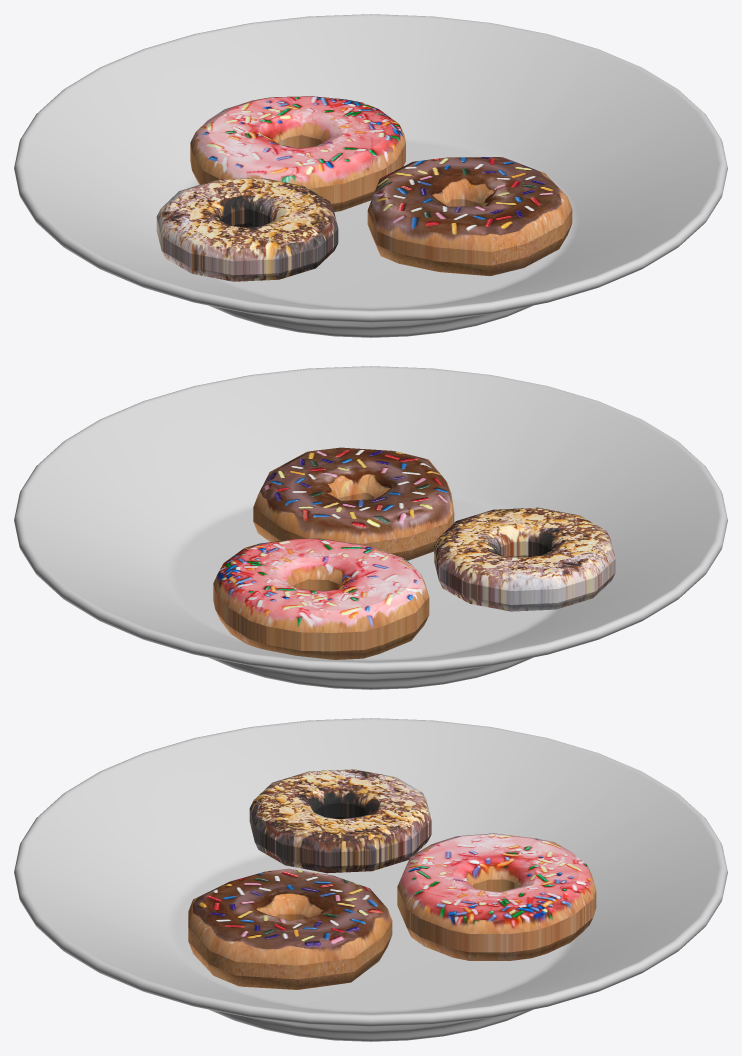
File: donuts.glb
3 renders of one model, top to bottom at view 1: azimuth 30°, elevation 25°; view 2: azimuth 150°, elevation 25°; view 3: azimuth 270°, elevation 25°, orthographic.
Visible parts, largest first — view 1: root, object 3, object 2, object 4; view 2: root, object 2, object 3, object 4; view 3: root, object 2, object 3, object 4.
Part boxes in pixels (<box>): root: <box>14,14,727,337</box>; object 3: <box>367,157,572,276</box>; object 2: <box>190,96,405,211</box>; object 4: <box>156,178,338,281</box>; root: <box>14,366,727,689</box>; object 2: <box>213,538,429,659</box>; object 3: <box>253,447,454,560</box>; object 4: <box>434,507,615,611</box>; root: <box>14,718,727,1041</box>; object 2: <box>397,833,596,960</box>; object 3: <box>188,868,392,989</box>; object 4: <box>249,769,431,873</box>.
Size of the model in its own units: 0.15 by 0.02 by 0.15.
3 materials, 2 textured.
